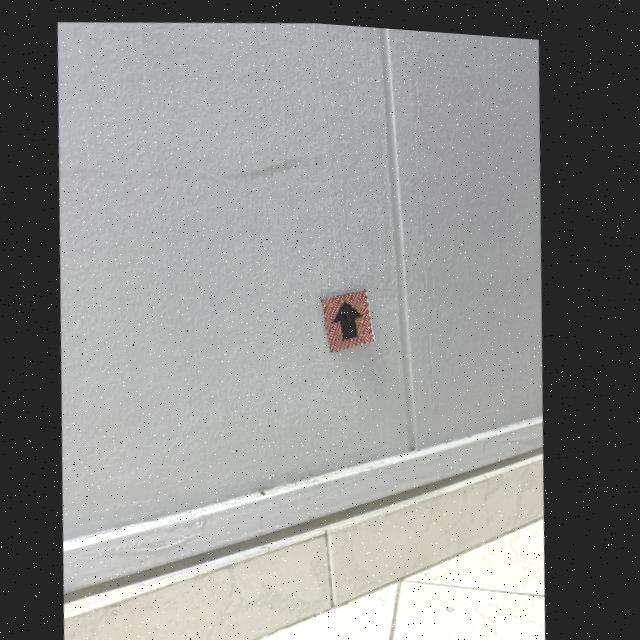UP: (335, 294, 368, 334)
